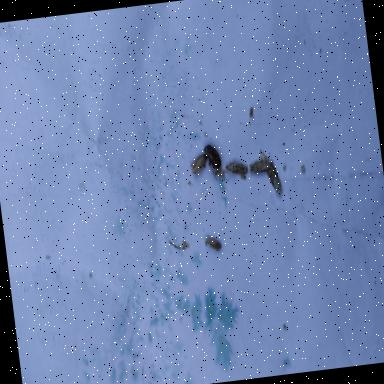pbw: (265, 160, 282, 195), (247, 150, 271, 174), (188, 150, 208, 176), (224, 160, 250, 178), (204, 236, 222, 254)
